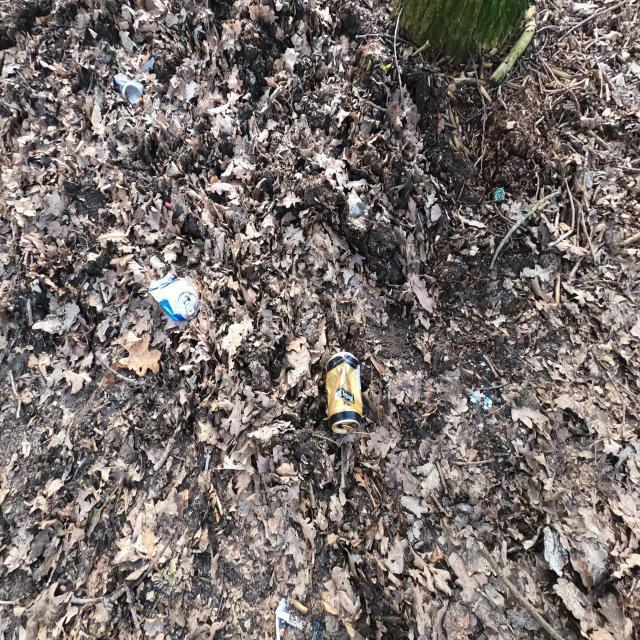Can-Metal: (324, 352, 363, 434), (147, 271, 200, 323), (112, 72, 144, 105)
Paper: (543, 525, 569, 578)
Plastic: (470, 388, 492, 412)
